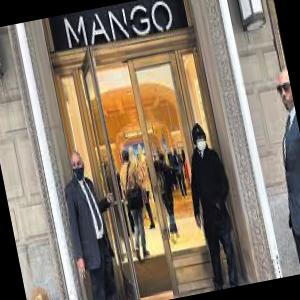mango: (57, 0, 177, 58)
